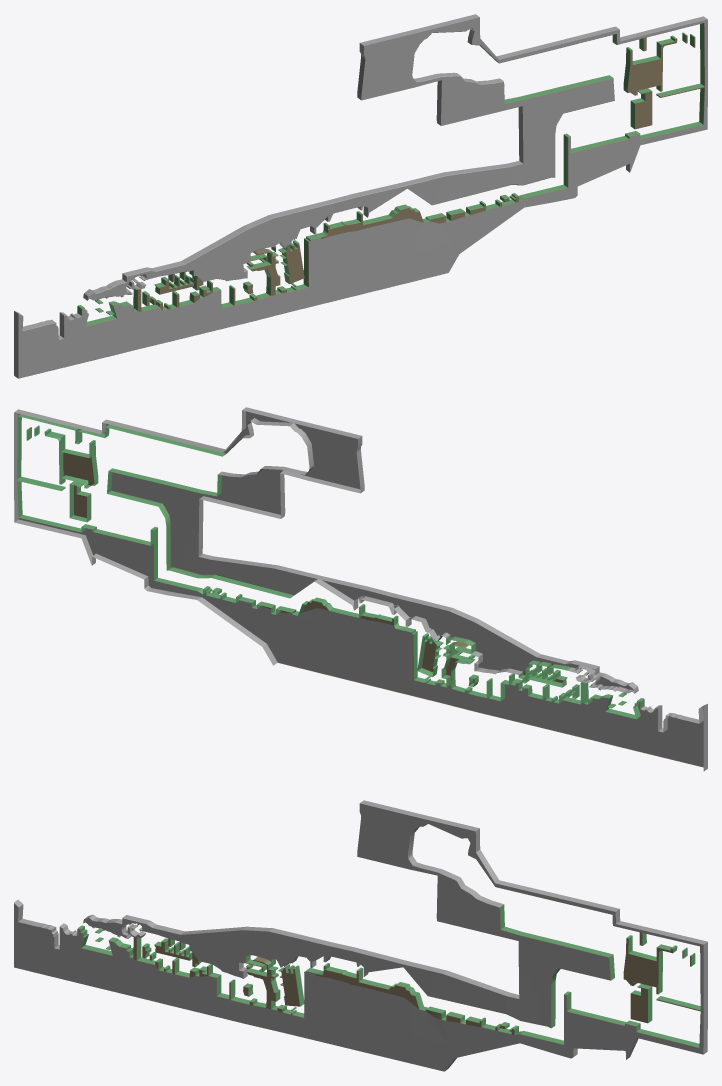
The model's file is final_levelGreyBox_01_mesh.fbx.
The picture shows the model from 3 angles, top to bottom: view 1: azimuth 30°, elevation 25°; view 2: azimuth 150°, elevation 25°; view 3: azimuth 330°, elevation 25°; orthographic projection.
Visible parts, largest first — view 1: pCube2; view 2: pCube2; view 3: pCube2.
Part boxes in pixels (box(x1,y1,x2,y2)): pCube2: box(14, 14, 707, 378); pCube2: box(14, 407, 707, 771); pCube2: box(14, 800, 707, 1071).
Size of the model in its own units: 910 by 314 by 10.2.
